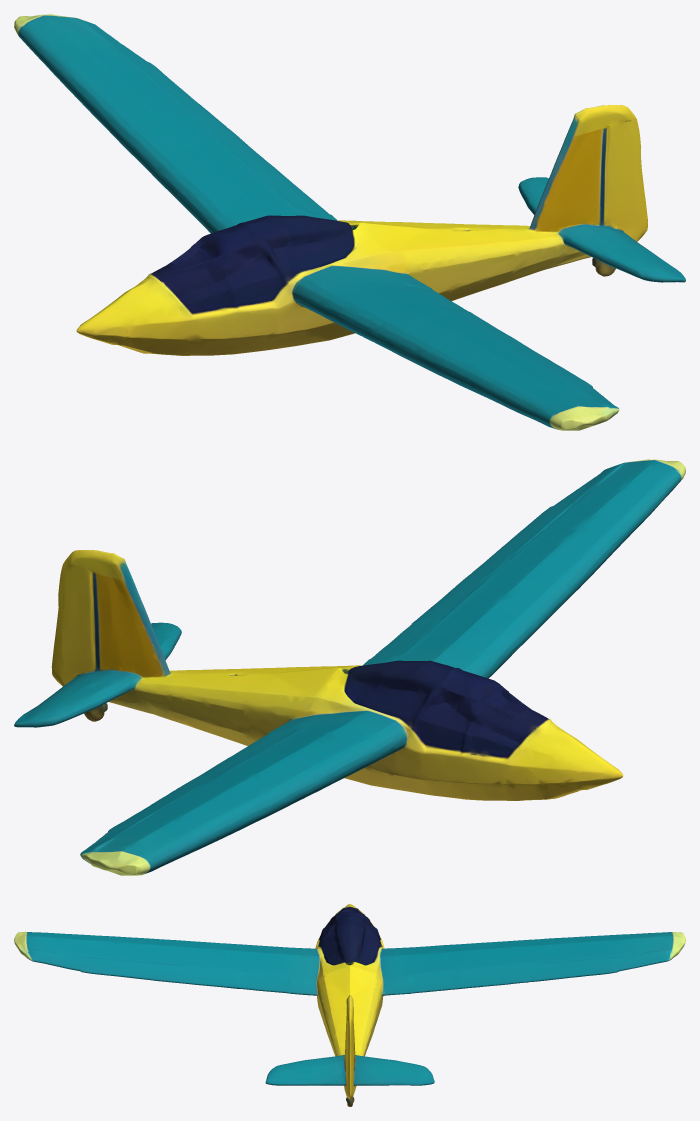
The model's file is sailplane.glb.
3 renders of one model, top to bottom at view 1: azimuth 30°, elevation 25°; view 2: azimuth 150°, elevation 25°; view 3: azimuth 270°, elevation 25°, orthographic. The views are drawn at different scales.
Visible parts, largest first — view 1: tripo_node_c3291977-902f-4503-be54-5db41aa88d80; view 2: tripo_node_c3291977-902f-4503-be54-5db41aa88d80; view 3: tripo_node_c3291977-902f-4503-be54-5db41aa88d80.
Boxes of the visible parts, x1=… form: tripo_node_c3291977-902f-4503-be54-5db41aa88d80: x1=14, y1=14, x2=685, y2=430; tripo_node_c3291977-902f-4503-be54-5db41aa88d80: x1=14, y1=459, x2=685, y2=875; tripo_node_c3291977-902f-4503-be54-5db41aa88d80: x1=14, y1=904, x2=685, y2=1106.
Size of the model in its own units: 0.5945 by 0.1714 by 1.
Materials: 1 (1 with a texture image).
